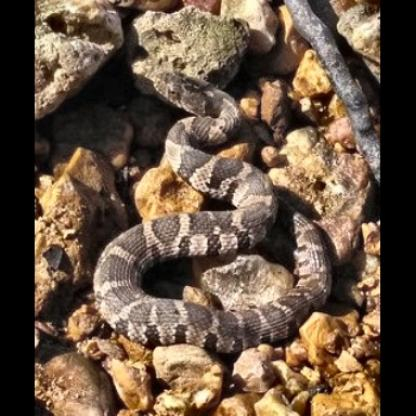Snake: (90, 64, 339, 350)
